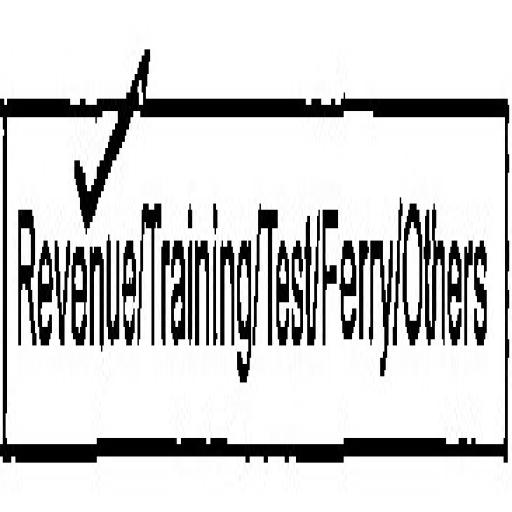check: (0, 0, 141, 491)
